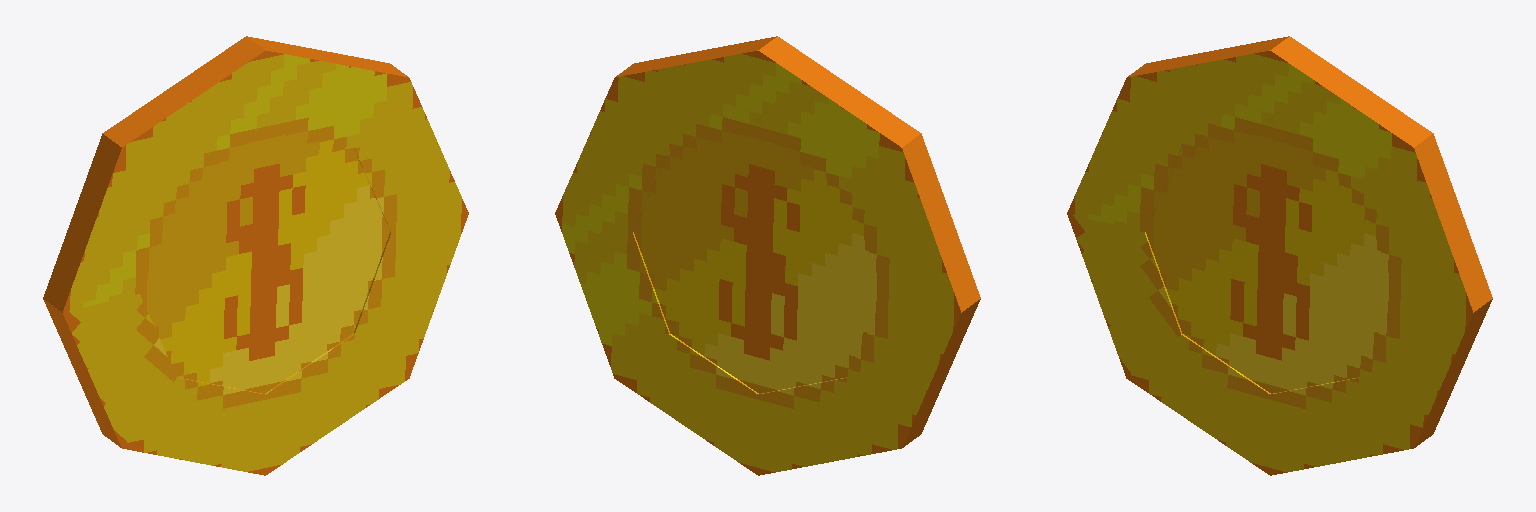
3 views of the same model, side by side, from view 1: azimuth 30°, elevation 25°; view 2: azimuth 150°, elevation 25°; view 3: azimuth 330°, elevation 25° (orthographic).
Visible parts, largest first — view 1: Cylinder; view 2: Cylinder; view 3: Cylinder.
Boxes of the visible parts, <box> form: Cylinder: <box>43,36,468,475</box>; Cylinder: <box>555,36,980,475</box>; Cylinder: <box>1067,36,1492,475</box>.
Size of the model in its own units: 2 by 2 by 0.1667.
Materials: 1 (1 with a texture image).